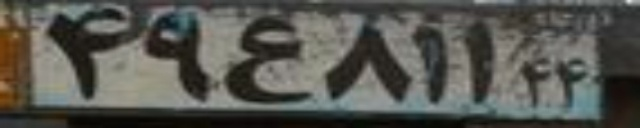1: (411, 14, 452, 103), (458, 17, 498, 105)
4: (49, 6, 133, 105), (552, 58, 592, 110), (516, 57, 551, 107)
8: (322, 12, 410, 102)
9: (144, 8, 212, 101)
ain: (224, 14, 311, 103)
